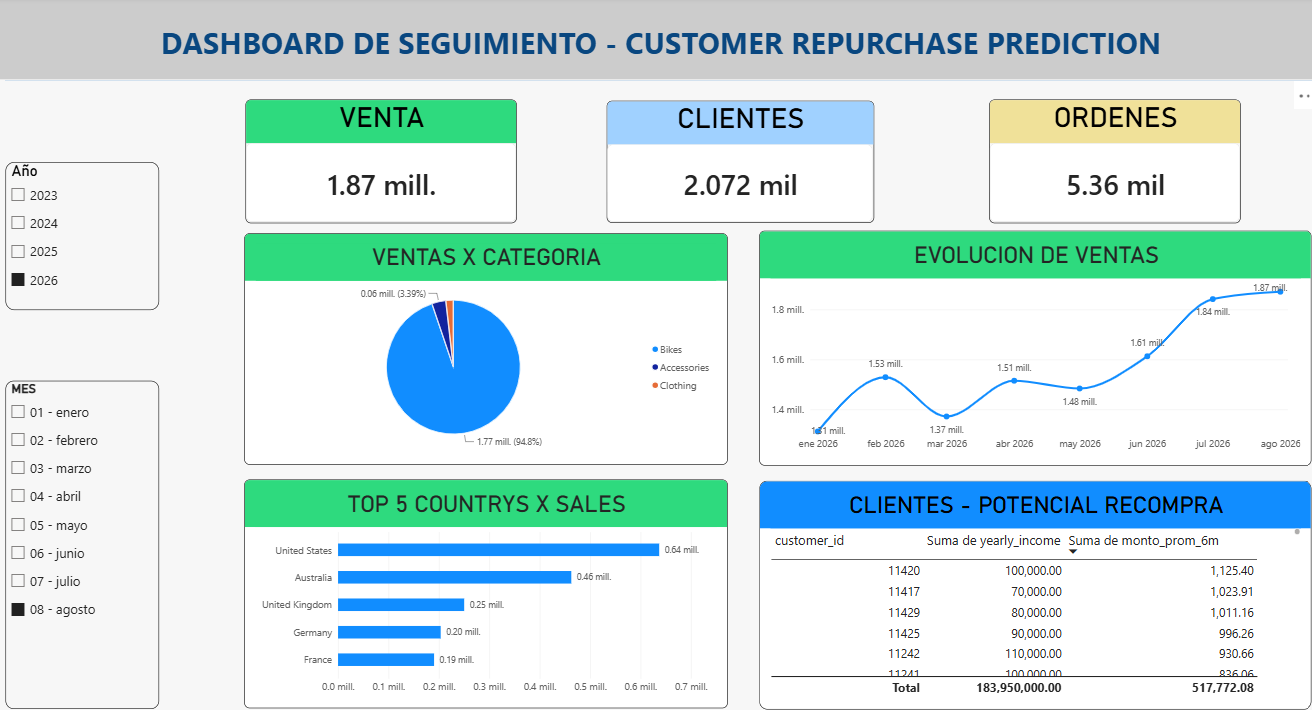

The page's visual inventory and layout, read from the dashboard file:
{"tool":"powerbi","page":{"name":"DASHBOARD","canvas":[1920,1080],"ordinal":0},"visuals":[{"type":"shape","box":[10.3,0,1910.1,238.8],"z":0},{"type":"textbox","box":[0,0,1920.4,119.4],"z":1000},{"type":"cardVisual","title":"VENTA","fields":{"Data":["Sum(fct_sales.sales_total)"]},"box":[358.1,148.2,393.1,179.1],"z":2000},{"type":"cardVisual","title":"CLIENTES","fields":{"Data":["Count(fct_sales.customer_id)"]},"box":[881,150.3,387,177],"z":3000},{"type":"cardVisual","title":"ORDENES","fields":{"Data":["Count(fct_sales.sale_id)"]},"box":[1434.7,148.2,364.3,179.1],"z":4000},{"type":"lineChart","title":"EVOLUCION DE VENTAS","fields":{"Category":["DimCalendario.Date.Variación.Date Hierarchy.Year","DimCalendario.Date.Variación.Date Hierarchy.Quarter","DimCalendario.Date.Variación.Date Hierarchy.Month","DimCalendario.Date.Variación.Date Hierarchy.Day"],"Y":["Sum(fct_sales.sales_total)"]},"box":[1101.2,337.6,800.7,339.6],"z":5000},{"type":"pieChart","title":"VENTAS X CATEGORIA","fields":{"Category":["dim_products.category"],"Y":["Sum(fct_sales.sales_total)"]},"box":[356.1,341.7,699.8,335.5],"z":6000},{"type":"clusteredBarChart","title":"TOP 5 COUNTRYS X SALES","fields":{"Category":["dim_customers.country"],"Y":["Sum(fct_sales.sales_total)"]},"box":[356.1,697.8,699.8,331.4],"z":7000},{"type":"tableEx","title":"CLIENTES - POTENCIAL RECOMPRA","fields":{"Values":["sales_customers_seguimiento.customer_id","Sum(sales_customers_seguimiento.yearly_income)","Sum(sales_customers_seguimiento.monto_prom_6m)"]},"box":[1101.2,699.8,800.7,331.4],"z":8000},{"type":"slicer","fields":{"Values":["DimCalendario.Año"]},"box":[10.3,238.8,222.3,214.1],"z":9000},{"type":"slicer","fields":{"Values":["DimCalendario.MesNumLargo"]},"box":[10.3,555.7,222.3,475.5],"z":10000}]}

Visuals, with their boxes on the page's 1920x1080 design canvas (x1, y1, x2, y2). These are canvas units, not pixel positions in the 1312x710 screenshot, which may show the page scaled, cropped or inside an application window:
shape: select_region(10, 0, 1920, 239)
textbox: select_region(0, 0, 1920, 119)
"VENTA" cardVisual: select_region(358, 148, 751, 327)
"CLIENTES" cardVisual: select_region(881, 150, 1268, 327)
"ORDENES" cardVisual: select_region(1435, 148, 1799, 327)
"EVOLUCION DE VENTAS" lineChart: select_region(1101, 338, 1902, 677)
"VENTAS X CATEGORIA" pieChart: select_region(356, 342, 1056, 677)
"TOP 5 COUNTRYS X SALES" clusteredBarChart: select_region(356, 698, 1056, 1029)
"CLIENTES - POTENCIAL RECOMPRA" tableEx: select_region(1101, 700, 1902, 1031)
slicer - DimCalendario.Año: select_region(10, 239, 233, 453)
slicer - DimCalendario.MesNumLargo: select_region(10, 556, 233, 1031)
